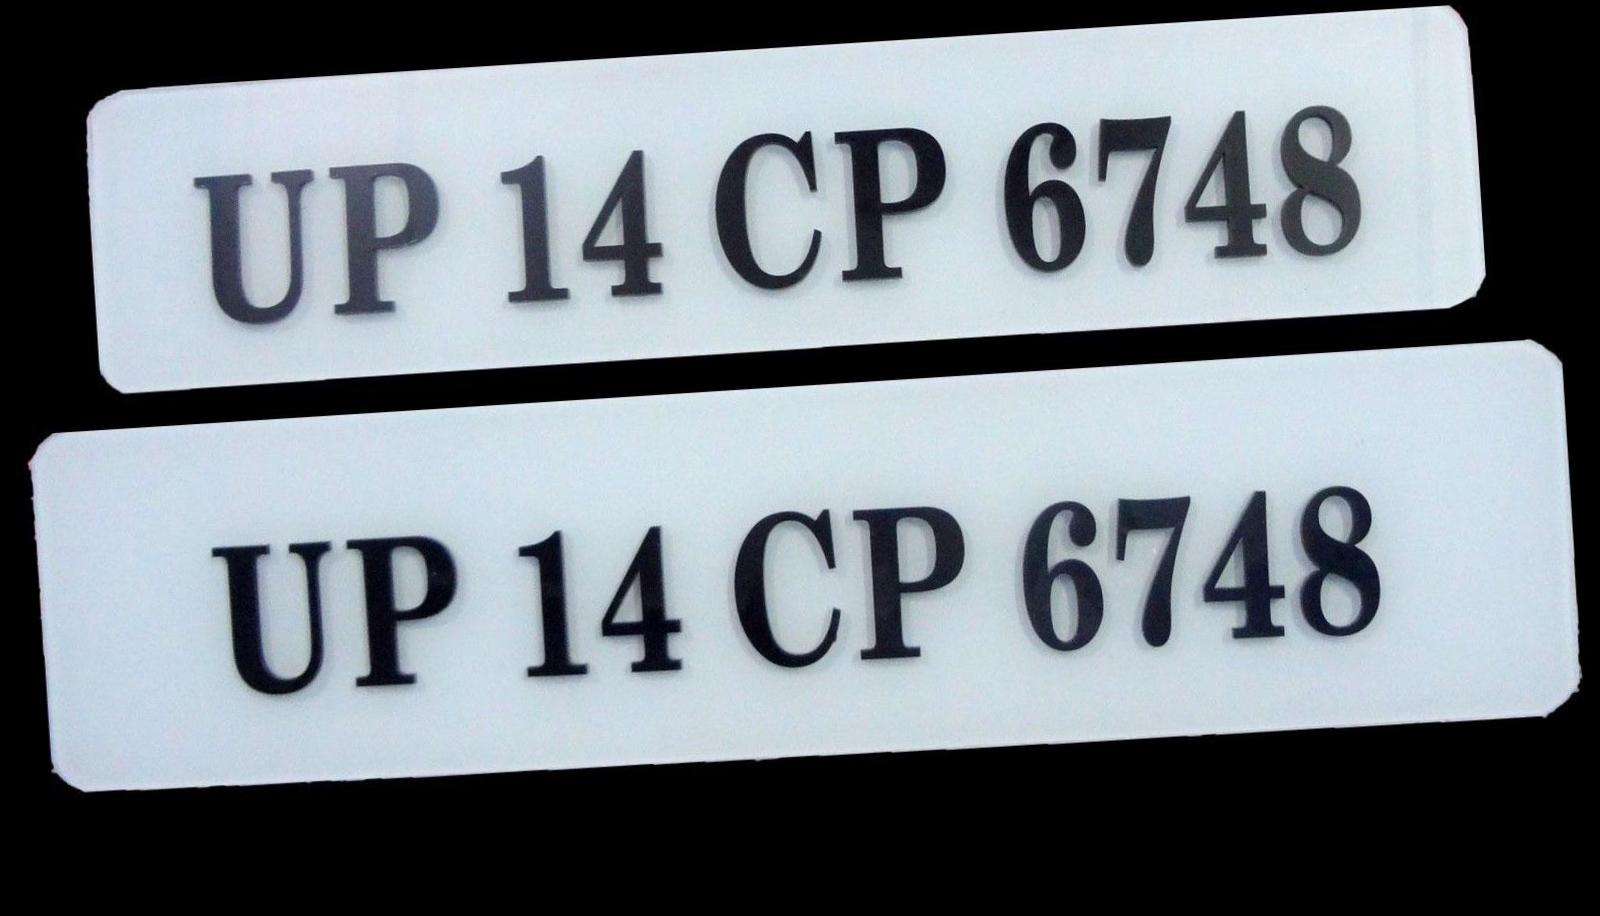plate: (96, 0, 1485, 380)
